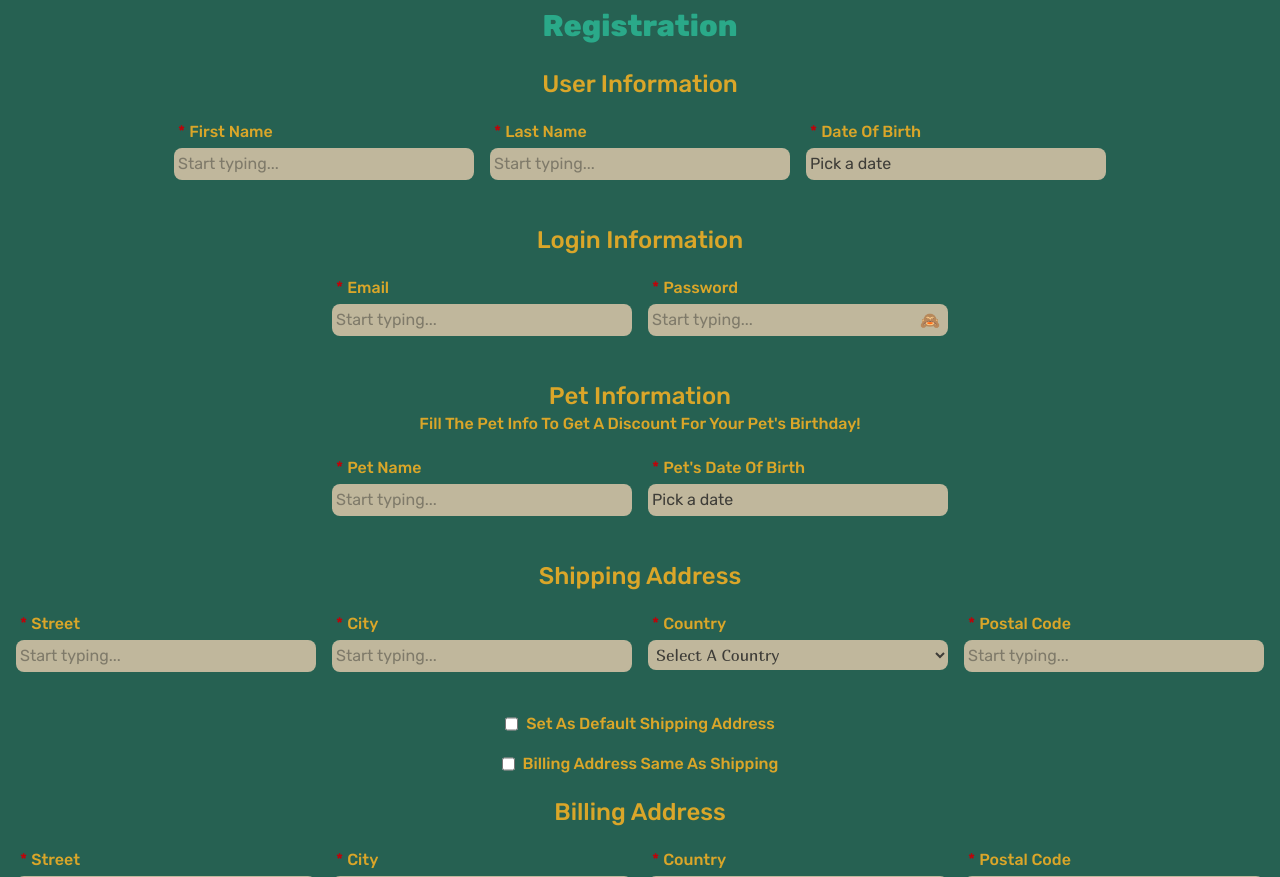
RegistrationForm › Error: first name no leading or trailing spaces
In the field labelled "* first name": (324, 164) x1=174 y1=148 x2=474 y2=180, type "123"
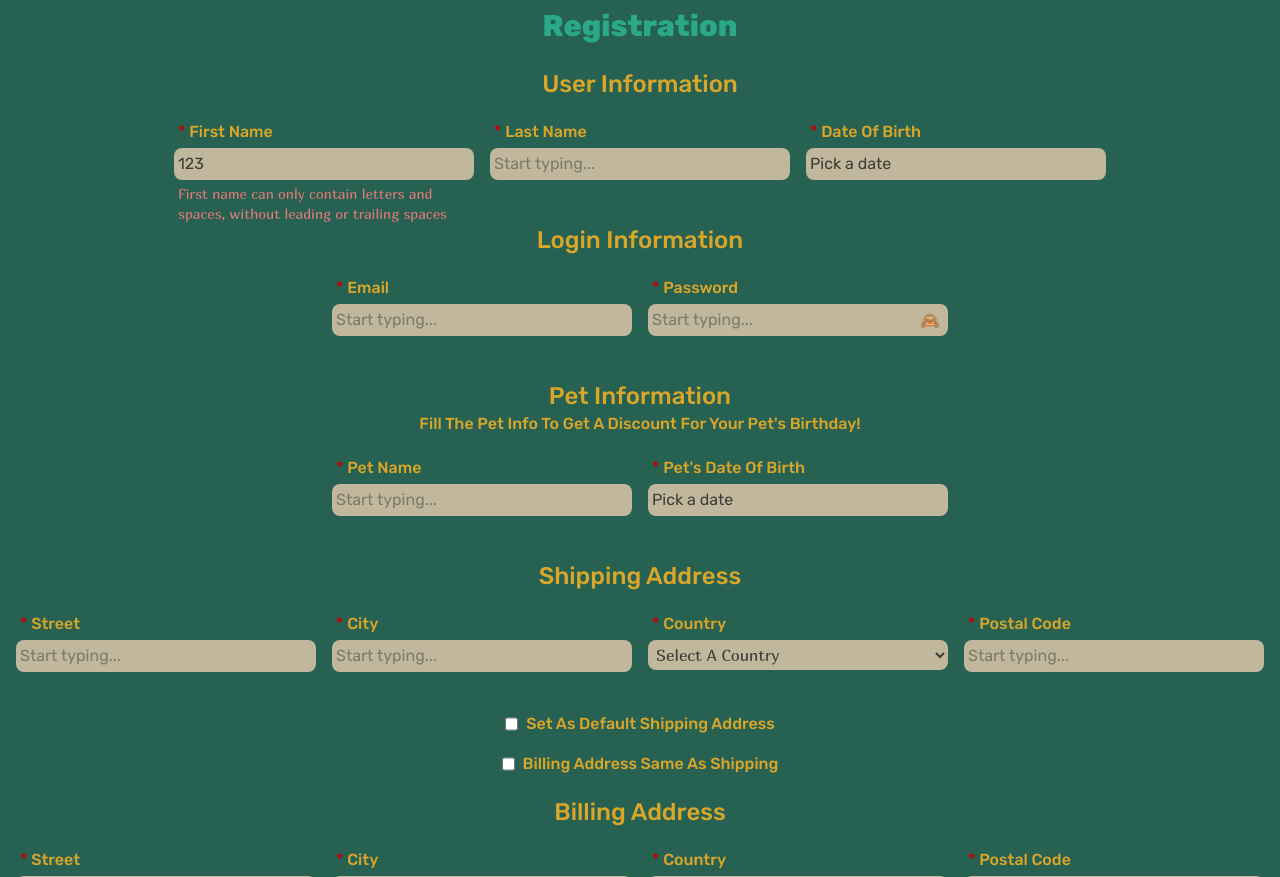
expect the text "First name can only contain letters and spaces, without leading or trailing spaces" is shown: met, box x1=178 y1=185 x2=447 y2=222
